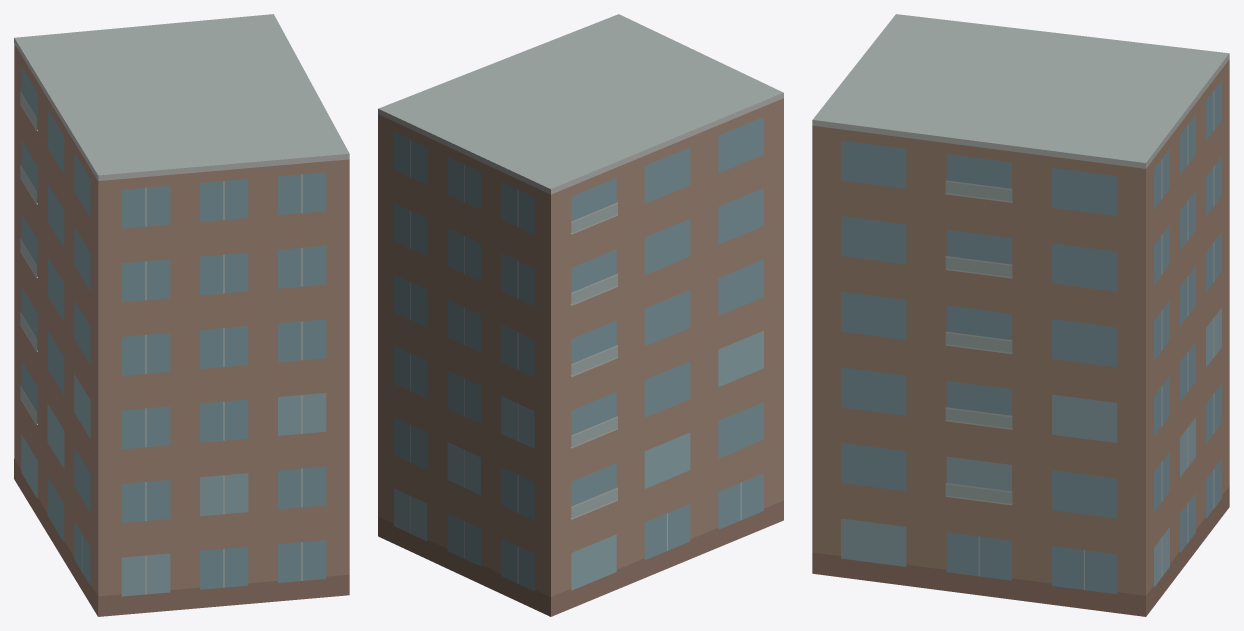
Rendered from survey-upis-32877572.glb.
3 views of the same model, side by side, from view 1: azimuth 30°, elevation 25°; view 2: azimuth 150°, elevation 25°; view 3: azimuth 270°, elevation 25° (orthographic). The views are drawn at different scales.
Parts seen in each view (by area): view 1: survey-upis-32877572.tmp; view 2: survey-upis-32877572.tmp; view 3: survey-upis-32877572.tmp.
Boxes of the visible parts, <box> form: survey-upis-32877572.tmp: <box>14,14,349,616</box>; survey-upis-32877572.tmp: <box>378,14,783,616</box>; survey-upis-32877572.tmp: <box>812,14,1229,616</box>.
Size of the model in its own units: 13.57 by 19.25 by 16.04.
